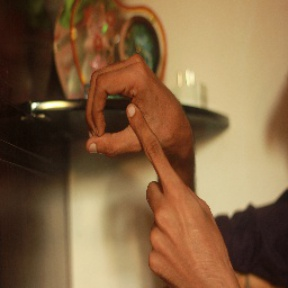Q: (73, 54, 210, 213)
